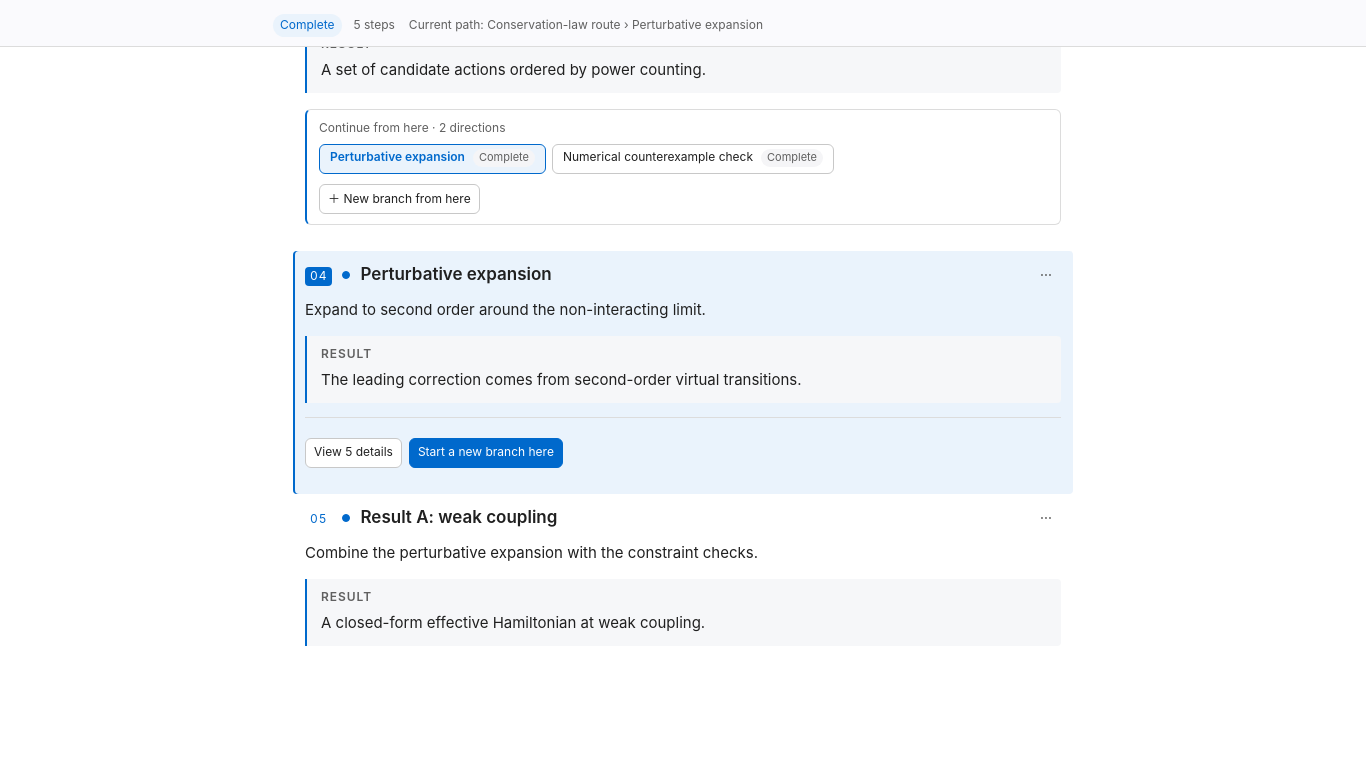
Test: RouteReader as a continuous document › keeps the step context menu and the per-step actions reachable
(page scrolled)
Step 1. Click the button "View 5 details" → click(353, 453), box [305,438,402,468]
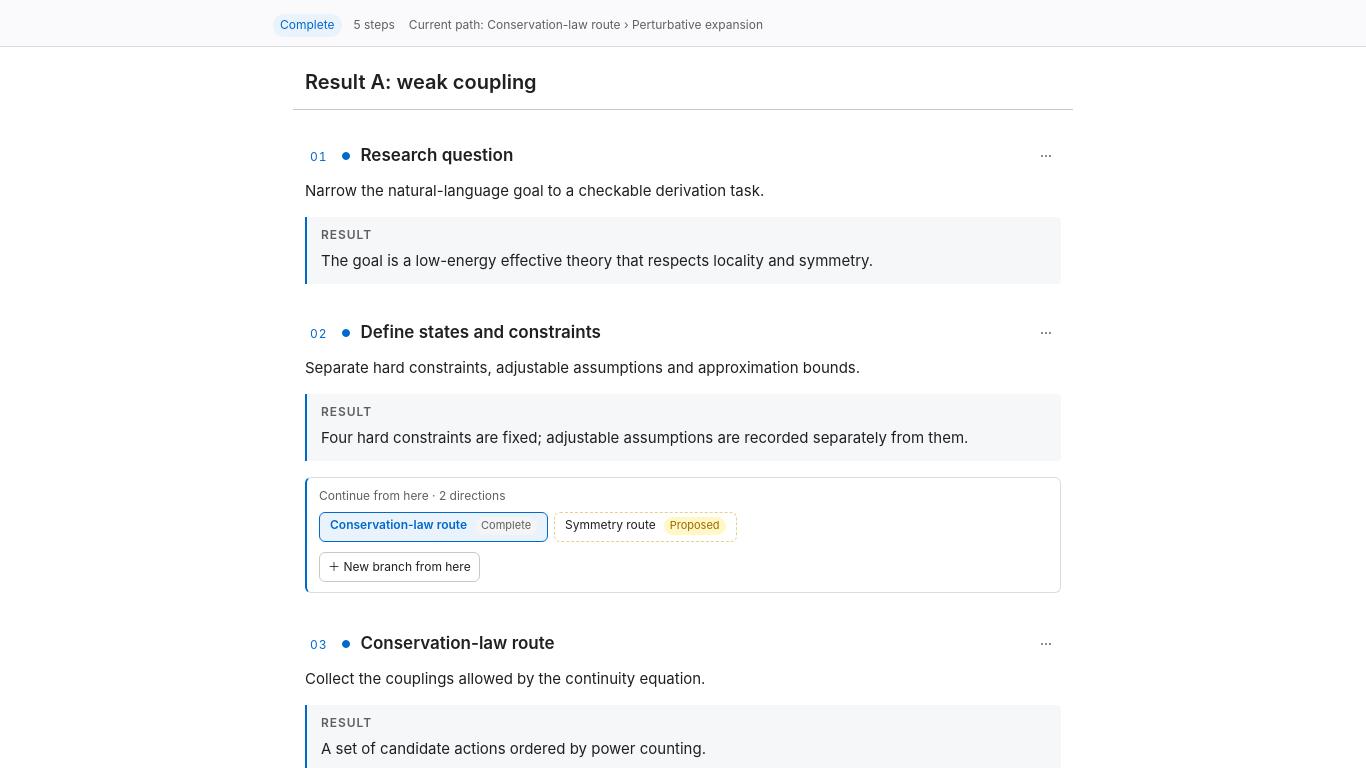
Step 2. Click the button named "More actions for route step: question" → click(1046, 156), box [1034,145,1058,167]
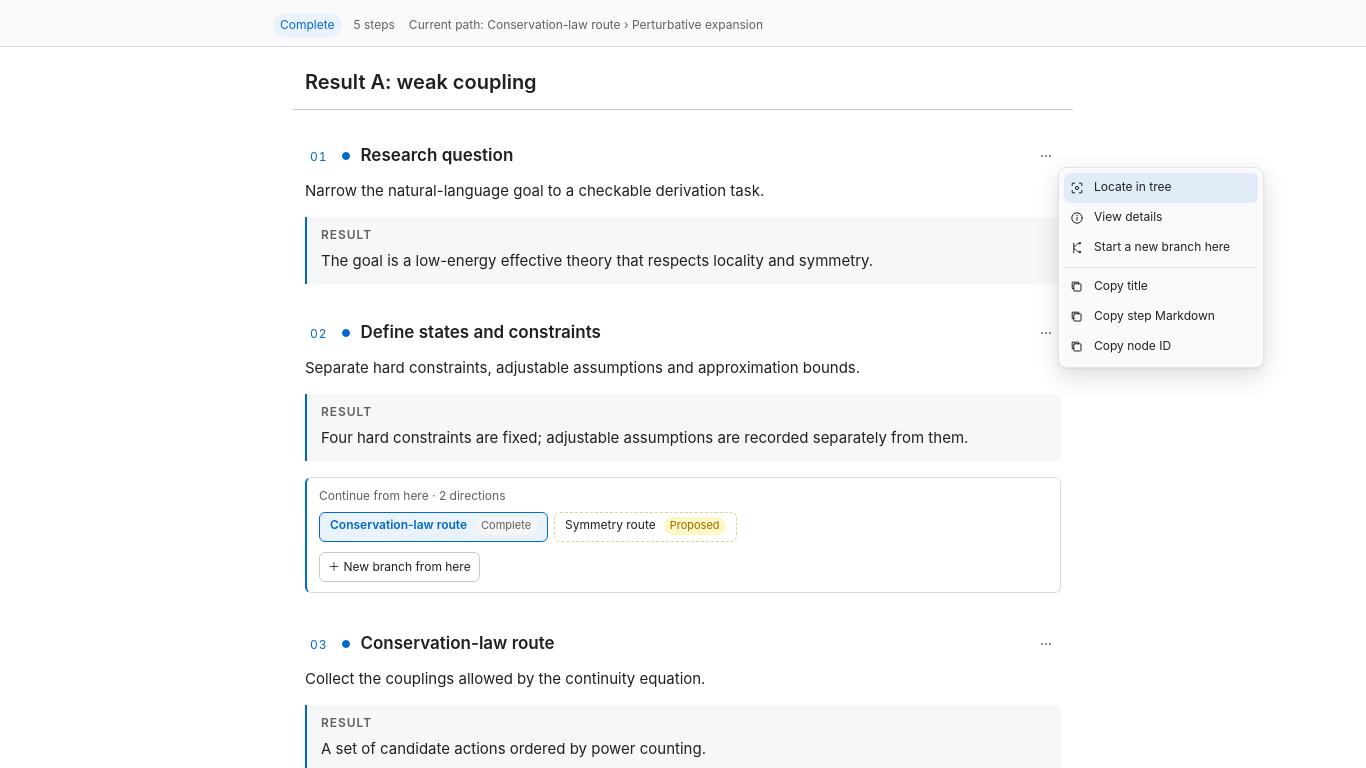
Expected: the menu item "Locate in tree" is shown, [1064,173,1258,203]
